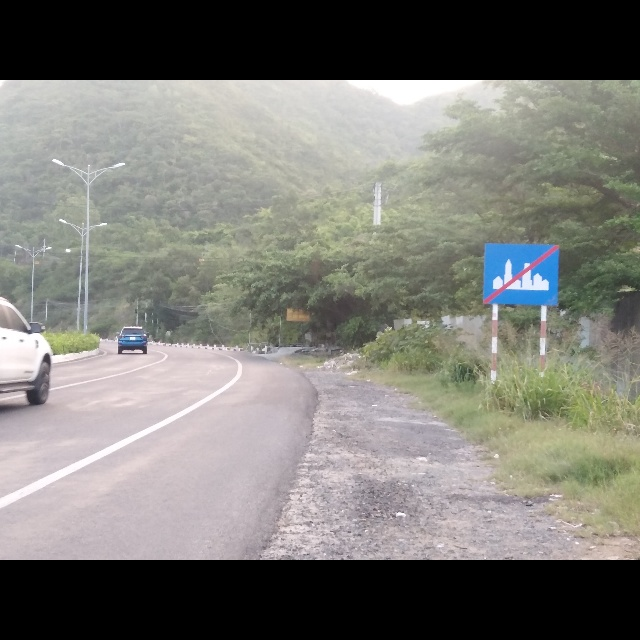Hết khu đông dân cư: (482, 242, 561, 309)
